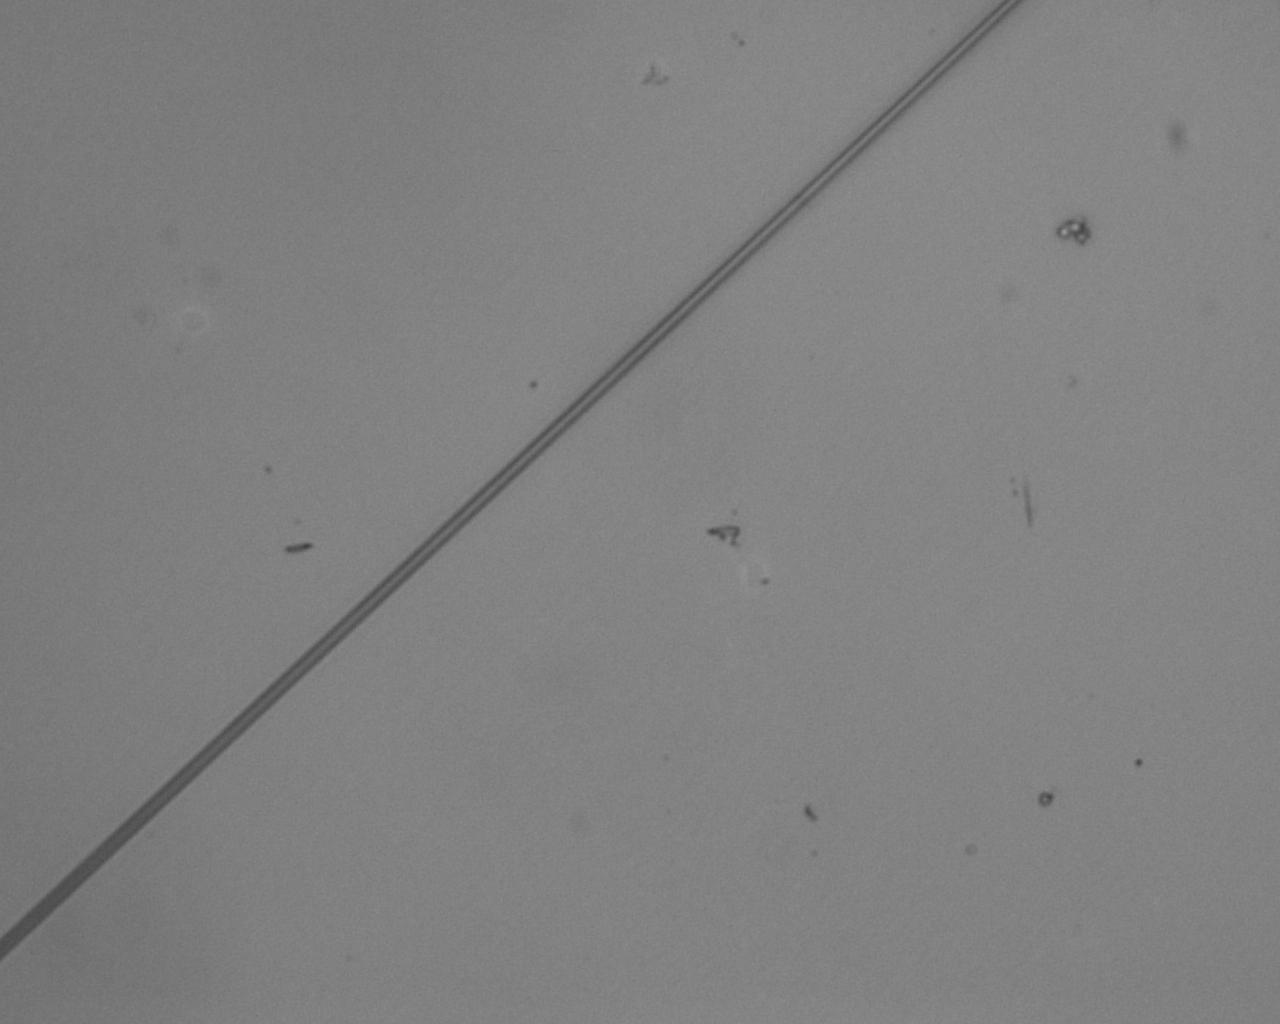fiber: (0, 0, 1029, 960)
